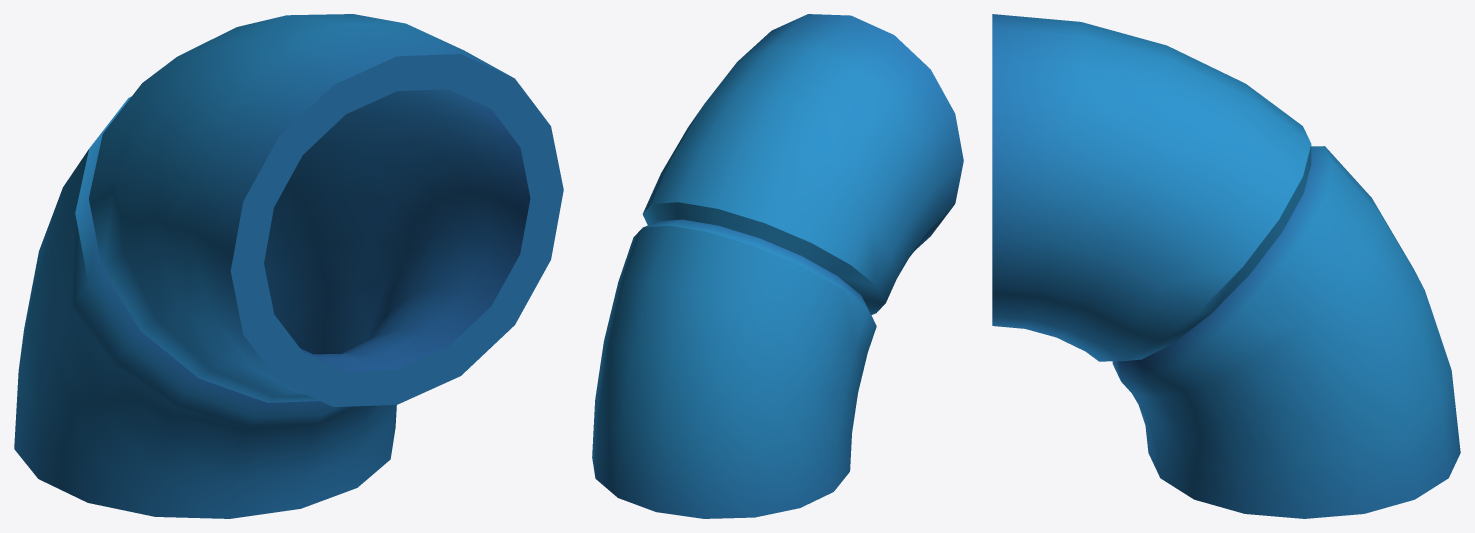
Rendered from pipe_90_B_blue.glb.
3 views of the same model, side by side, from view 1: azimuth 30°, elevation 25°; view 2: azimuth 150°, elevation 25°; view 3: azimuth 270°, elevation 25° (orthographic). The views are drawn at different scales.
Visible parts, largest first — view 1: pipe_90_B_blue; view 2: pipe_90_B_blue; view 3: pipe_90_B_blue.
Boxes of the visible parts, x1,y1,x2,y2 form: pipe_90_B_blue: [14, 14, 563, 518]; pipe_90_B_blue: [592, 14, 963, 518]; pipe_90_B_blue: [992, 14, 1460, 518].
Bounding box in the file's own units: 2 × 3 × 3.
1 material, 1 textured.
